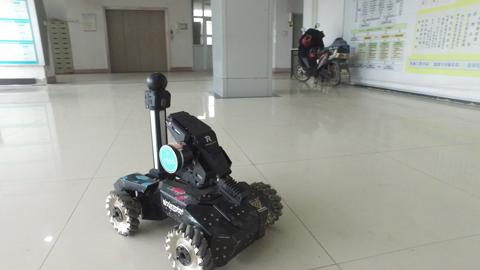chariot: (96, 69, 291, 270)
